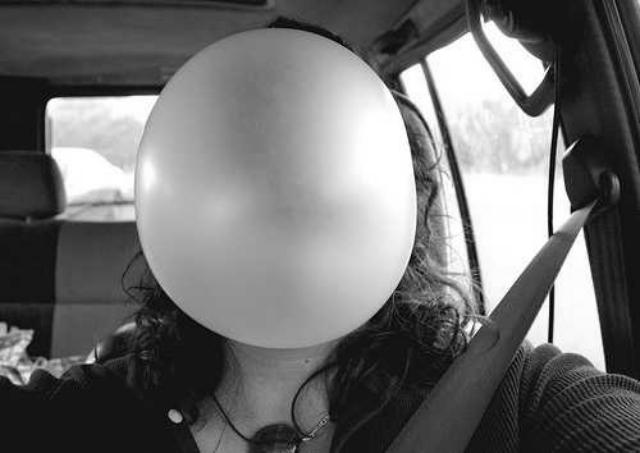Seatbelt: (382, 128, 628, 453)
